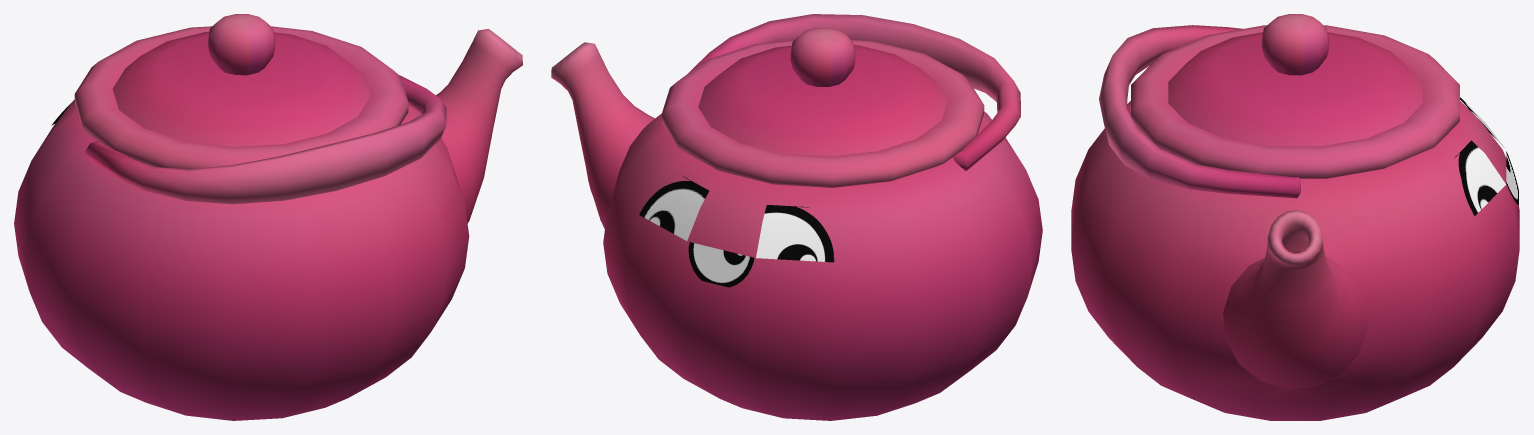
The model's file is teapot_pink_smile.fbx.
The picture shows the model from 3 angles, left to right: view 1: azimuth 30°, elevation 25°; view 2: azimuth 150°, elevation 25°; view 3: azimuth 270°, elevation 25°; orthographic projection. The views are drawn at different scales.
Visible parts, largest first — view 1: teapot_pink; view 2: teapot_pink; view 3: teapot_pink.
Boxes of the visible parts, x1,y1,x2,y2 form: teapot_pink: [14, 14, 522, 420]; teapot_pink: [551, 14, 1042, 420]; teapot_pink: [1071, 14, 1519, 420].
Bounding box in the file's own units: 137 × 113 × 101.
